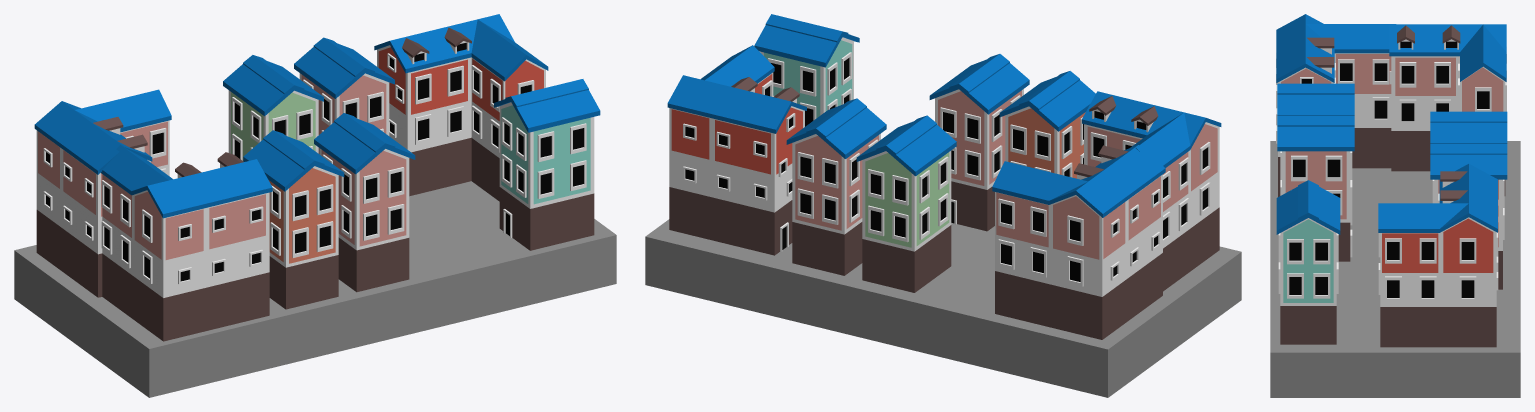
3 renders of one model, left to right at view 1: azimuth 30°, elevation 25°; view 2: azimuth 150°, elevation 25°; view 3: azimuth 270°, elevation 25°, orthographic. The views are drawn at different scales.
Visible parts, largest first — view 1: Mesh_1x2_V1, Mesh_1x2_V1.001; view 2: Mesh_1x2_V1, Mesh_1x2_V1.001; view 3: Mesh_1x2_V1, Mesh_1x2_V1.001.
Part boxes in pixels (x1,y1,x2,y2): Mesh_1x2_V1: [34, 14, 600, 341]; Mesh_1x2_V1.001: [14, 181, 616, 397]; Mesh_1x2_V1: [667, 14, 1221, 339]; Mesh_1x2_V1.001: [645, 219, 1241, 397]; Mesh_1x2_V1: [1276, 14, 1507, 347]; Mesh_1x2_V1.001: [1270, 141, 1520, 397].
Bounding box in the file's own units: 200 × 79.35 × 100.
